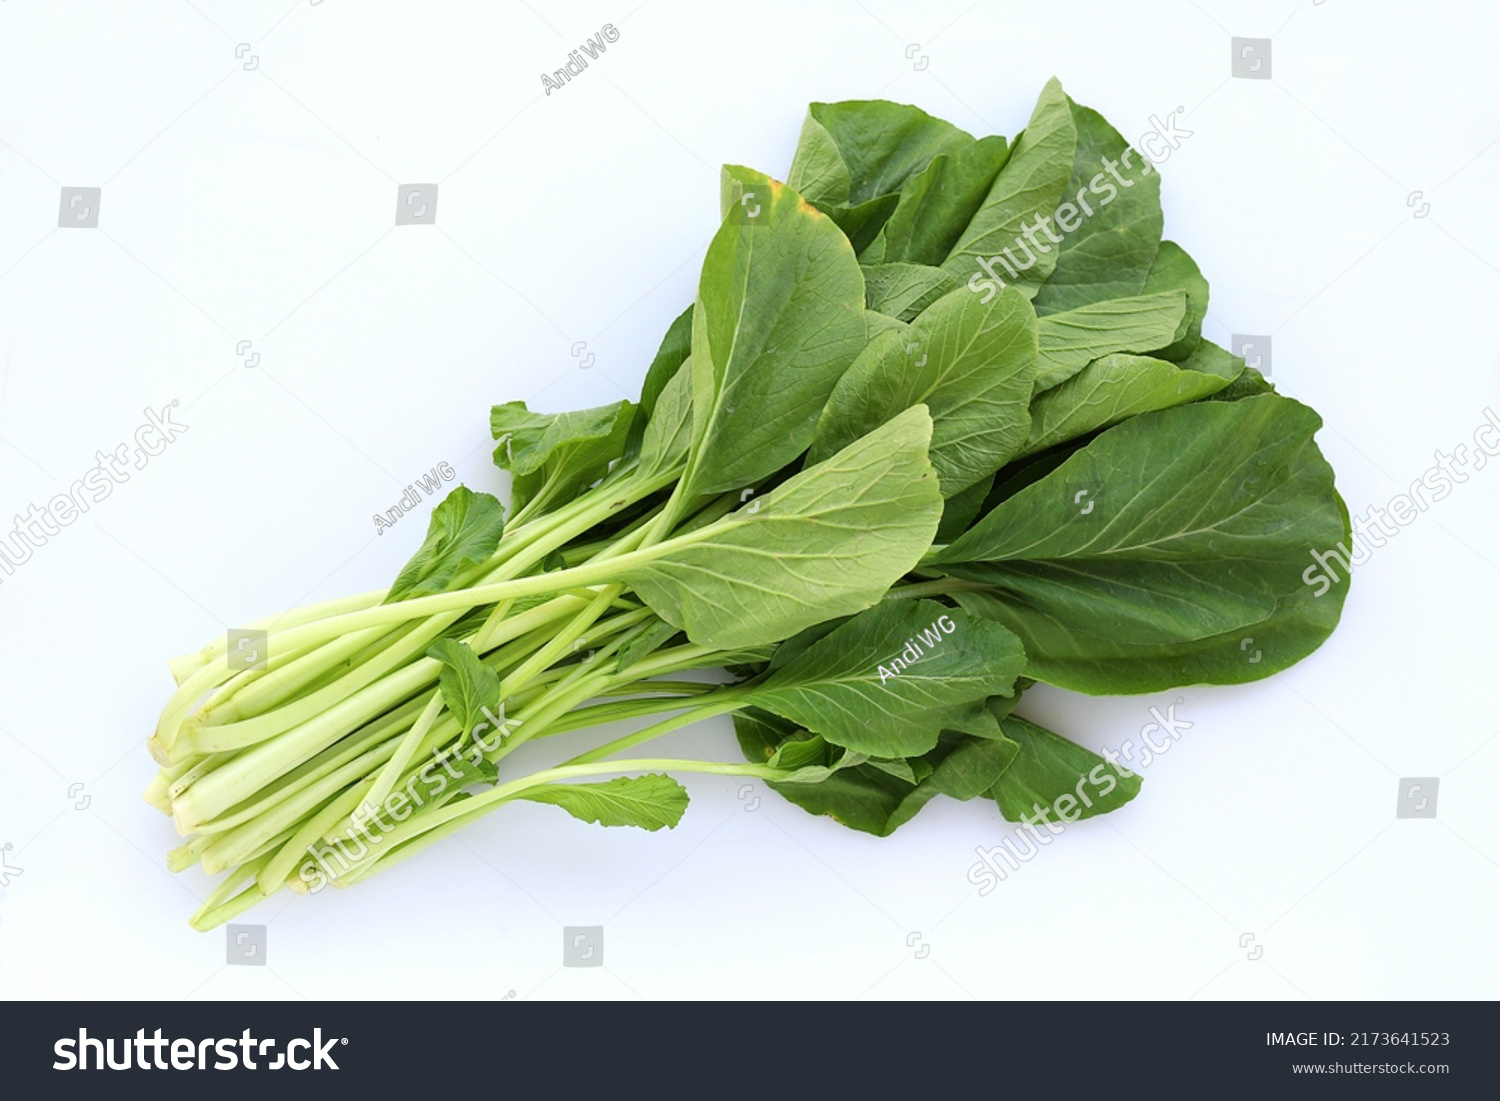Sawi: (112, 103, 1347, 954)
